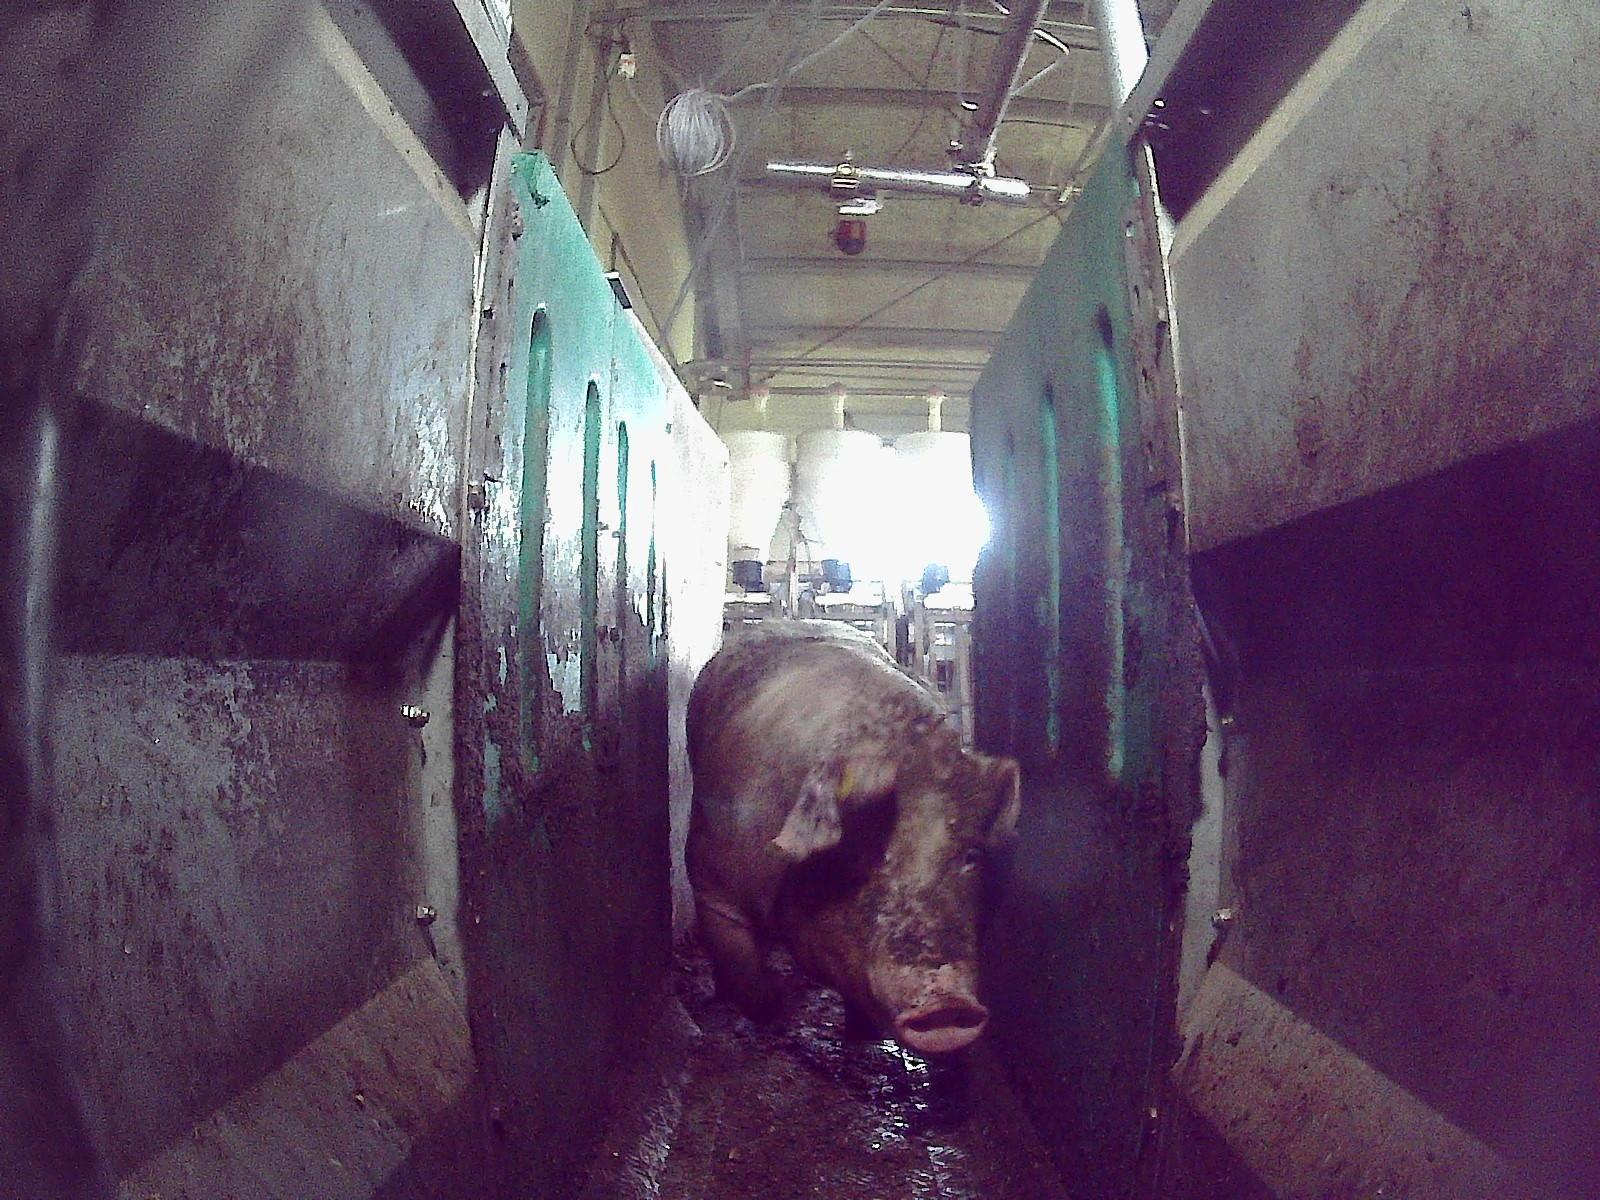Face: (811, 751, 990, 1051)
